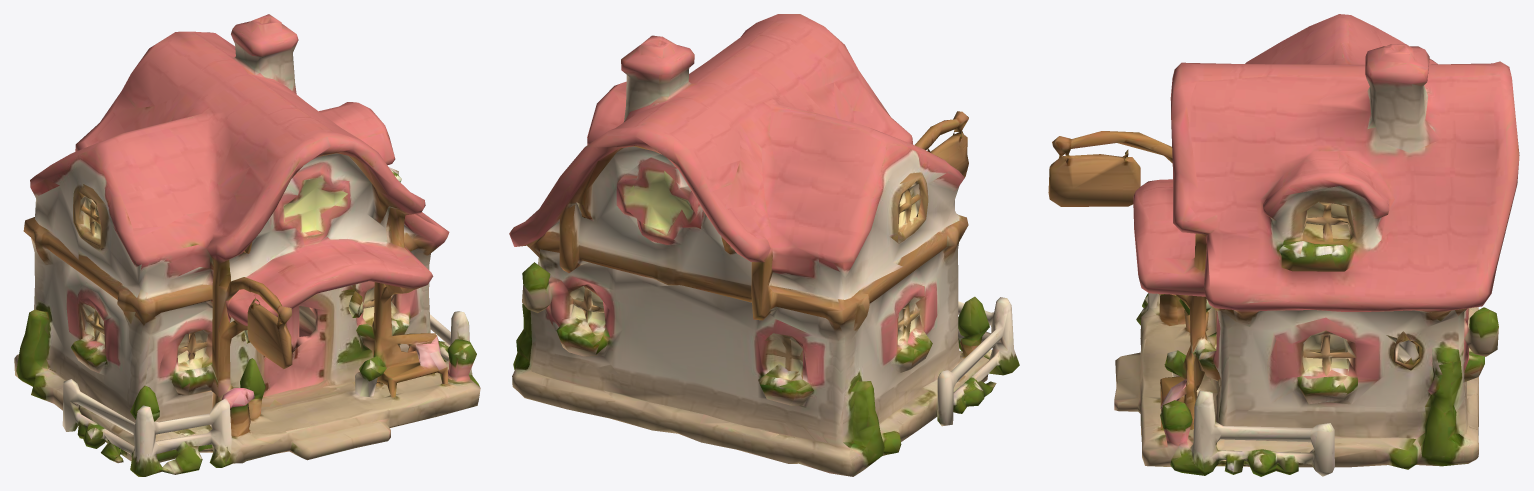
3 renders of one model, left to right at view 1: azimuth 30°, elevation 25°; view 2: azimuth 150°, elevation 25°; view 3: azimuth 270°, elevation 25°, orthographic. The views are drawn at different scales.
Parts seen in each view (by area): view 1: tripo_node_dda5e38c-9a38-4301-9a58-ef35a295556d; view 2: tripo_node_dda5e38c-9a38-4301-9a58-ef35a295556d; view 3: tripo_node_dda5e38c-9a38-4301-9a58-ef35a295556d.
Part boxes in pixels (x1,y1,x2,y2): tripo_node_dda5e38c-9a38-4301-9a58-ef35a295556d: [14, 14, 480, 476]; tripo_node_dda5e38c-9a38-4301-9a58-ef35a295556d: [509, 14, 1019, 476]; tripo_node_dda5e38c-9a38-4301-9a58-ef35a295556d: [1048, 14, 1519, 476].
Size of the model in its own units: 5.29 by 4.5 by 5.26.
1 material, 1 textured.
